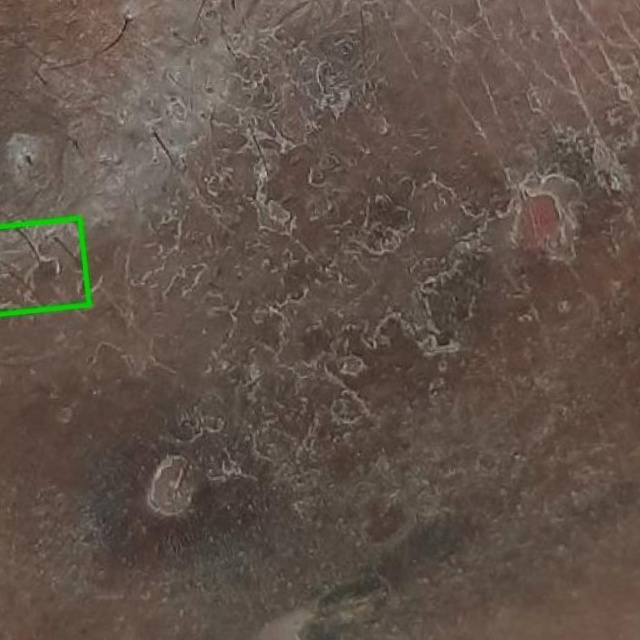Eczema: (0, 218, 89, 314)
